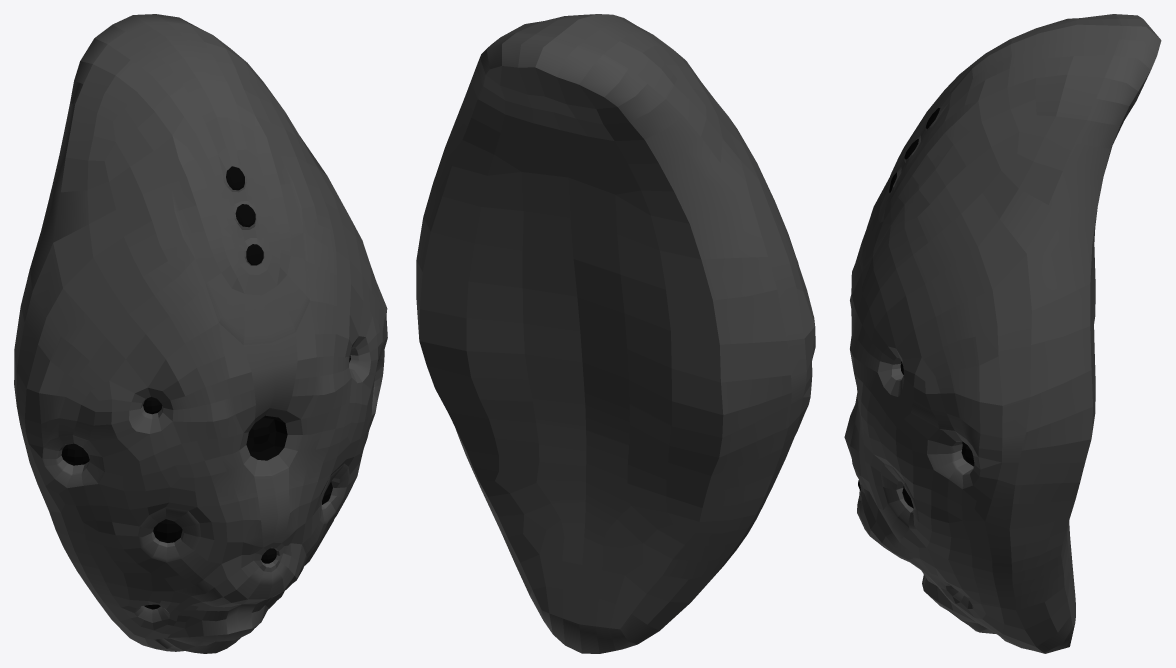
File: mask3.fbx
The picture shows the model from 3 angles, left to right: view 1: azimuth 30°, elevation 25°; view 2: azimuth 150°, elevation 25°; view 3: azimuth 270°, elevation 25°; orthographic projection. The views are drawn at different scales.
Visible parts, largest first — view 1: Mask; view 2: Mask; view 3: Mask.
Part boxes in pixels (<box>): Mask: <box>14,14,387,653</box>; Mask: <box>416,14,815,653</box>; Mask: <box>844,14,1161,653</box>.
Size of the model in its own units: 9.35 by 15.12 by 6.97.
Materials: 1 (1 with a texture image).
